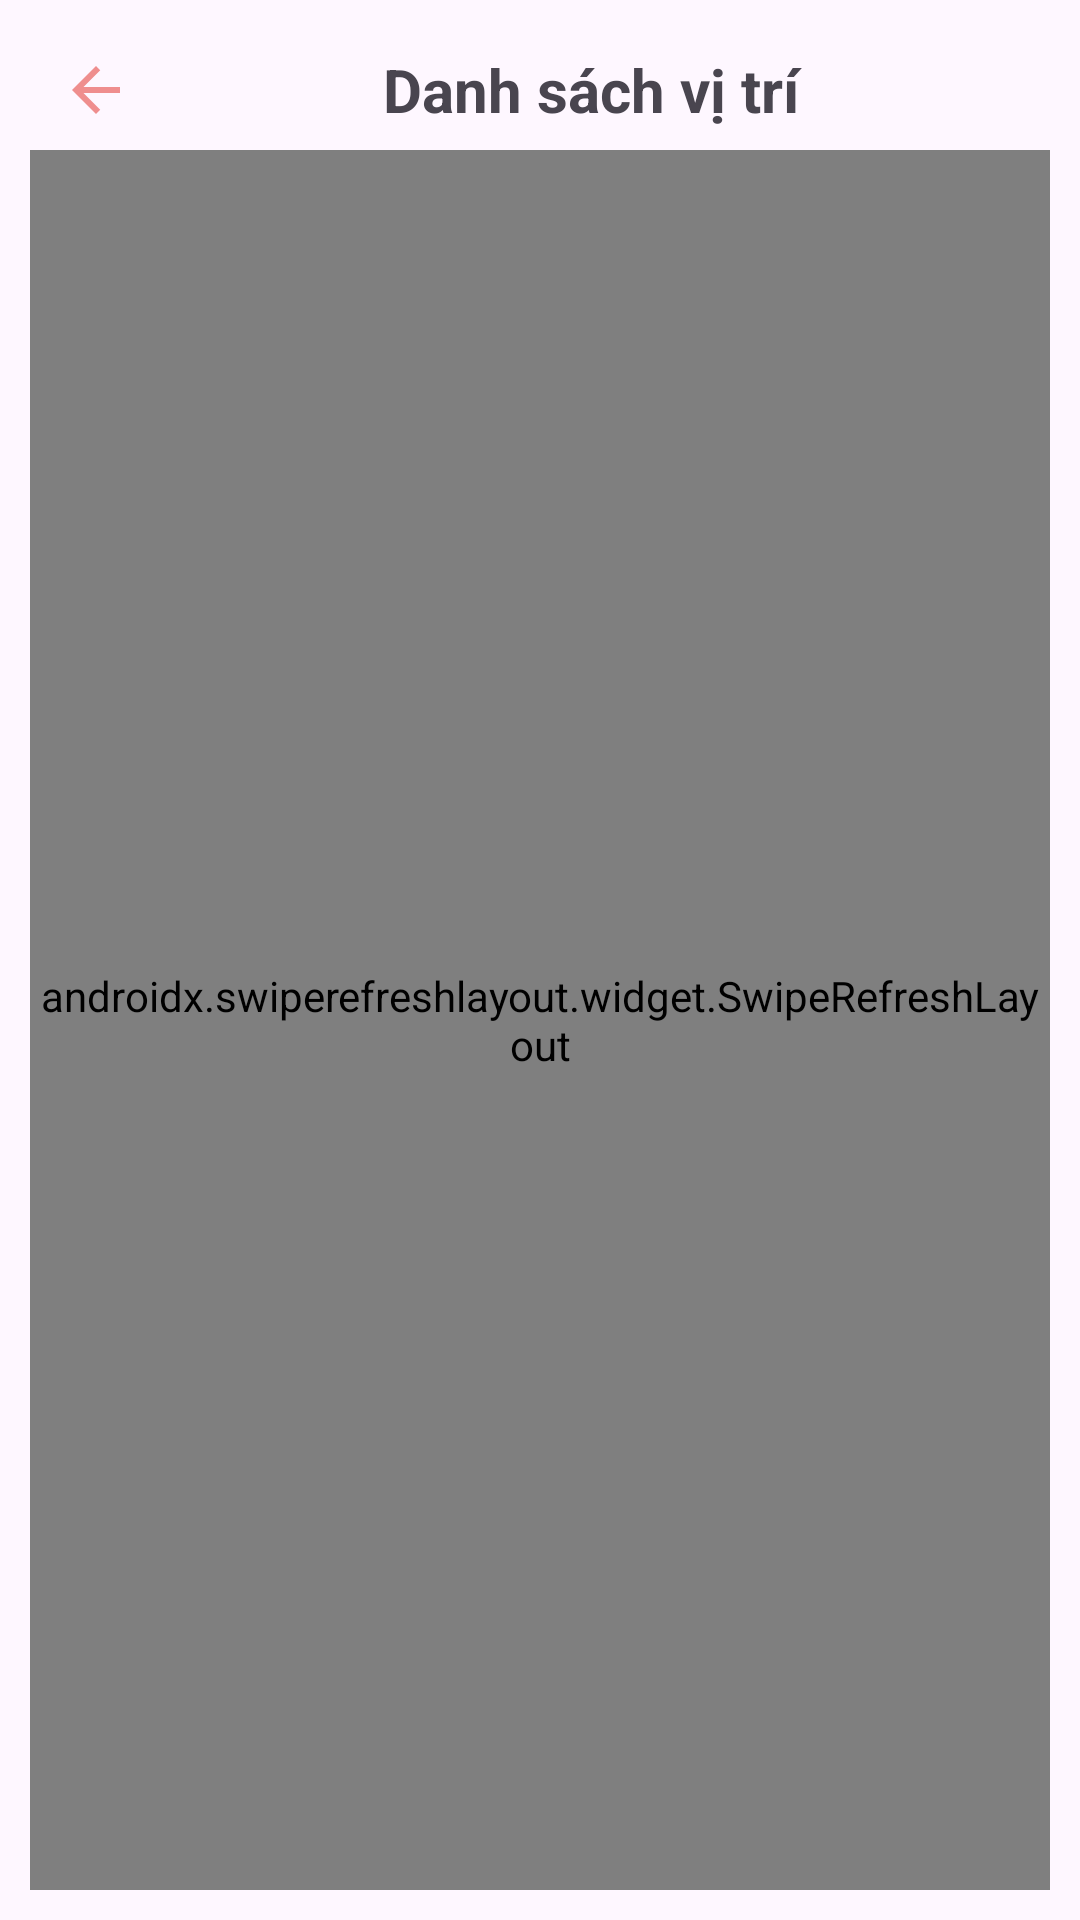

Icons on this 1080*1920 Android screen, each with its box as rect(x1, y1, x2, y2):
back: rect(72, 66, 120, 114)
